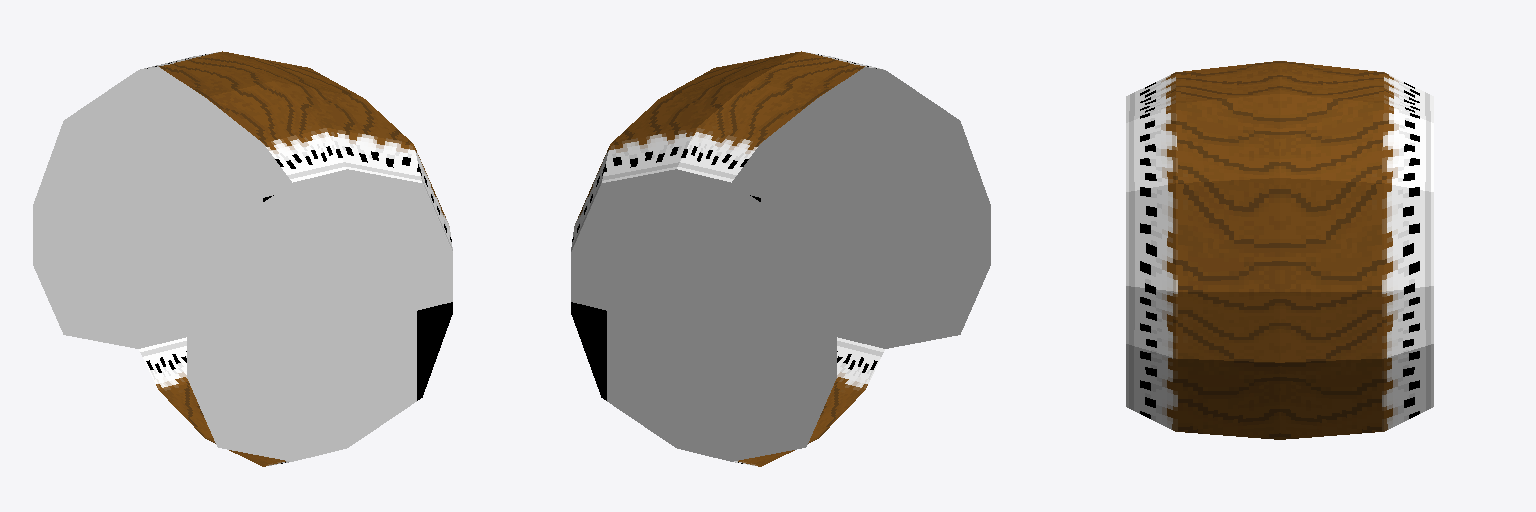
3 views of the same model, side by side, from view 1: azimuth 30°, elevation 25°; view 2: azimuth 150°, elevation 25°; view 3: azimuth 270°, elevation 25° (orthographic).
Visible parts, largest first — view 1: drum_Cube.001; view 2: drum_Cube.001; view 3: drum_Cube.001.
Boxes of the visible parts, <box> form: drum_Cube.001: <box>33,51,452,466</box>; drum_Cube.001: <box>571,51,990,466</box>; drum_Cube.001: <box>1126,61,1433,439</box>.
Size of the model in its own units: 76.98 by 85.79 by 70.16.
Materials: 1 (1 with a texture image).